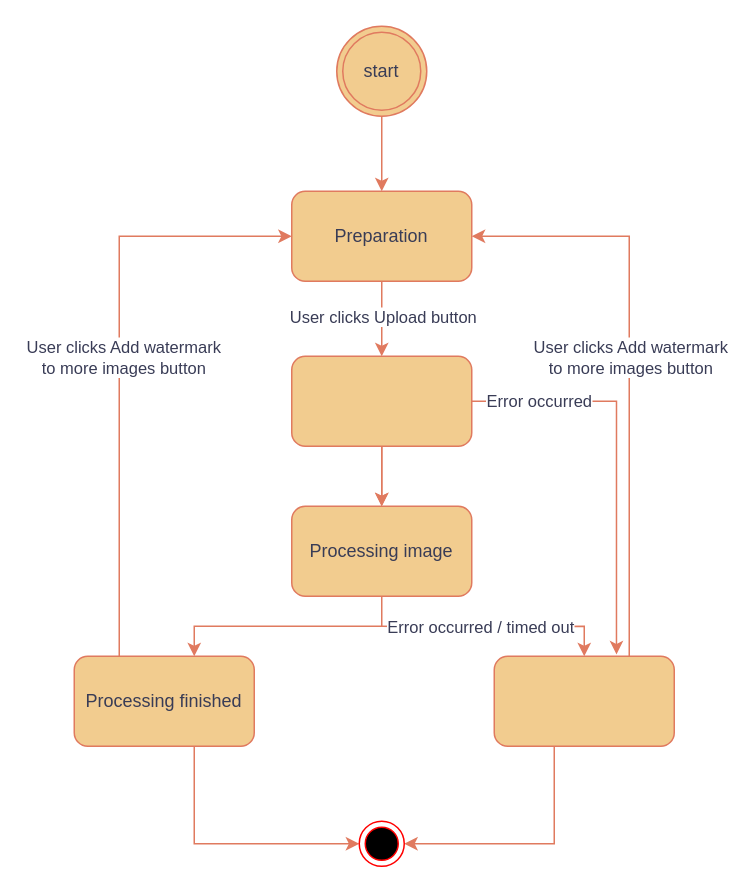
Image size: 753x893. Some labels were removed from this diagram. The box of each missing label's shape, as (x1, y1, x2, y2) in pixels:
Processing failed: (493, 655, 674, 746)
Uploading image: (290, 355, 472, 446)
